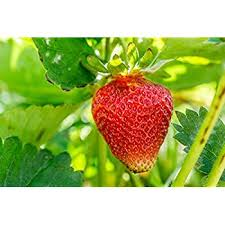strawberry: (90, 61, 175, 175)
